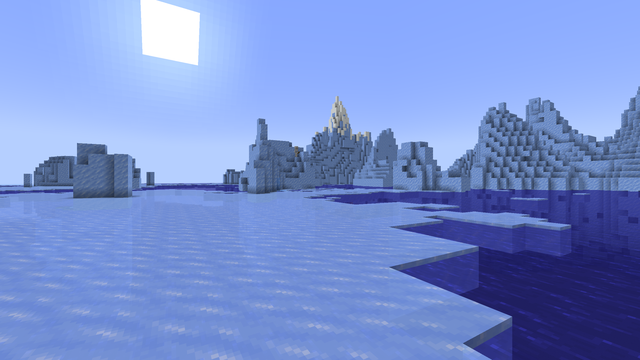squelettes: (294, 146, 298, 156)
